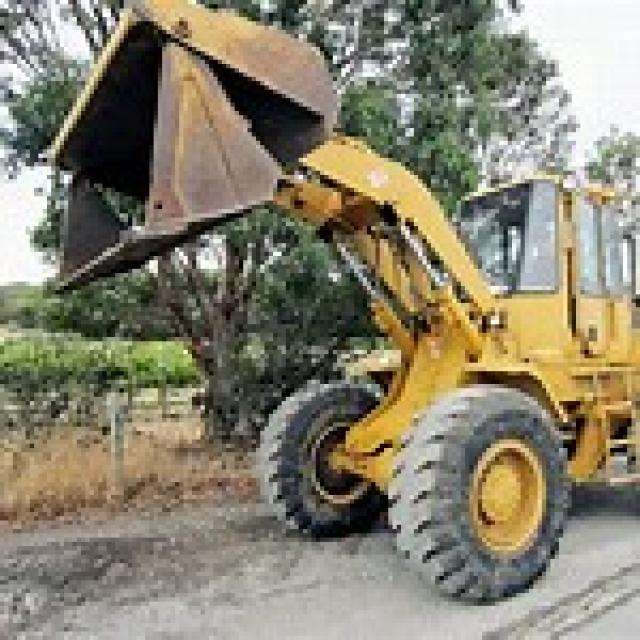light_vehicle: (47, 17, 636, 593)
